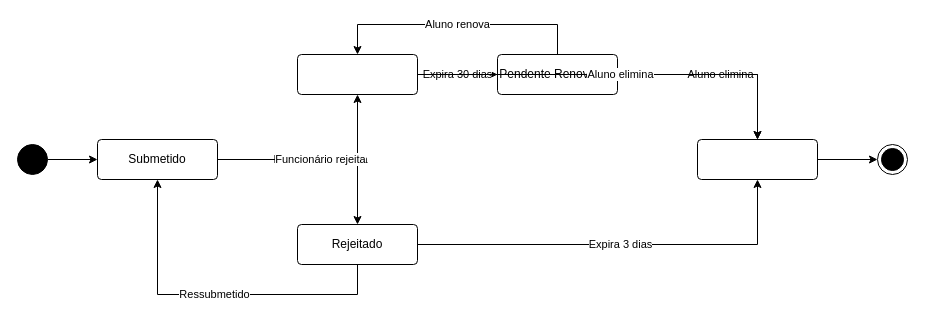
This 925x320 diagram has some shape labels left out. The shapes that lost their labels are listed below. From the top down, each one's centre as x and y in pixels, then its label:
At pixel 357 74: "Publicado".
At pixel 757 159: "Arquivado".
